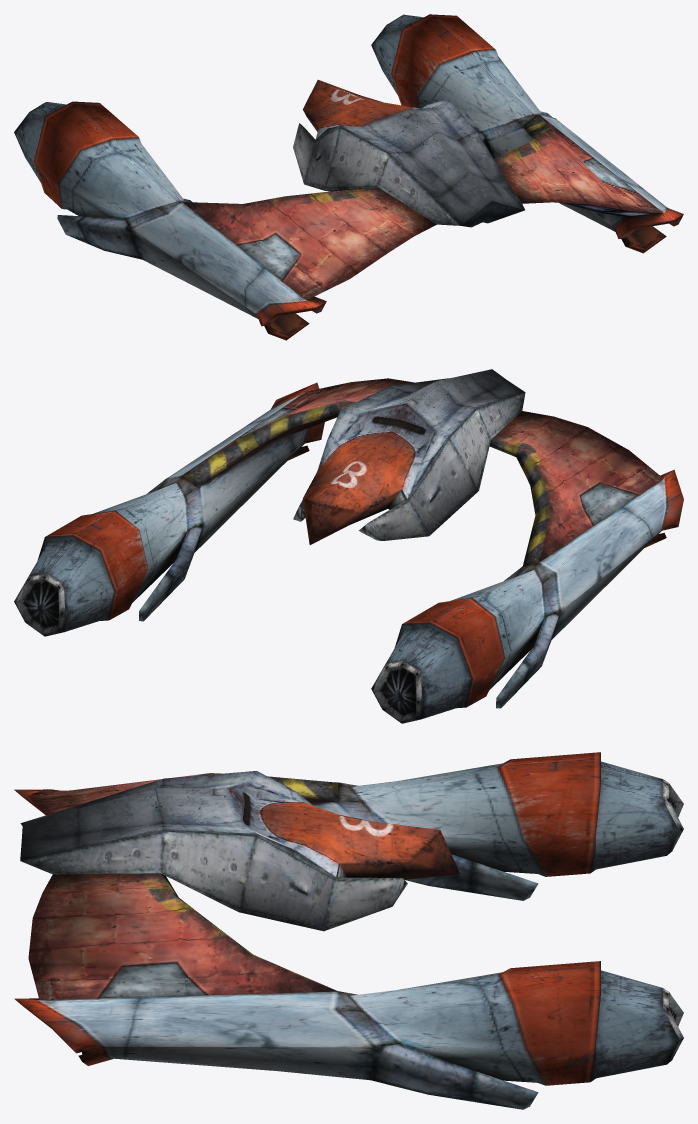
Rendered from Craft2.obj.
The picture shows the model from 3 angles, top to bottom: view 1: azimuth 30°, elevation 25°; view 2: azimuth 150°, elevation 25°; view 3: azimuth 270°, elevation 25°; orthographic projection. The views are drawn at different scales.
Visible parts, largest first — view 1: Craft.0_Craft.0; view 2: Craft.0_Craft.0; view 3: Craft.0_Craft.0.
Part boxes in pixels (x1,y1,x2,y2): Craft.0_Craft.0: (14,14,683,340); Craft.0_Craft.0: (14,369,683,723); Craft.0_Craft.0: (14,752,683,1109).
Bounding box in the file's own units: 5.13 × 1.74 × 5.42.
Materials: 1 (1 with a texture image).
